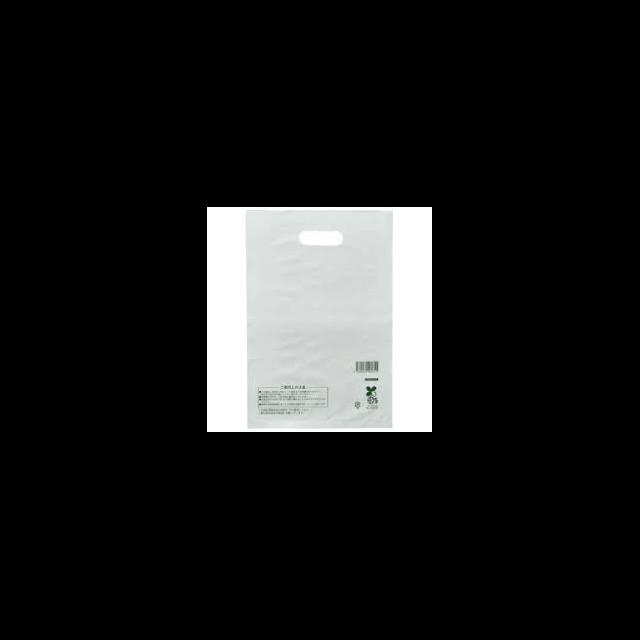plastic: (244, 208, 392, 428)
